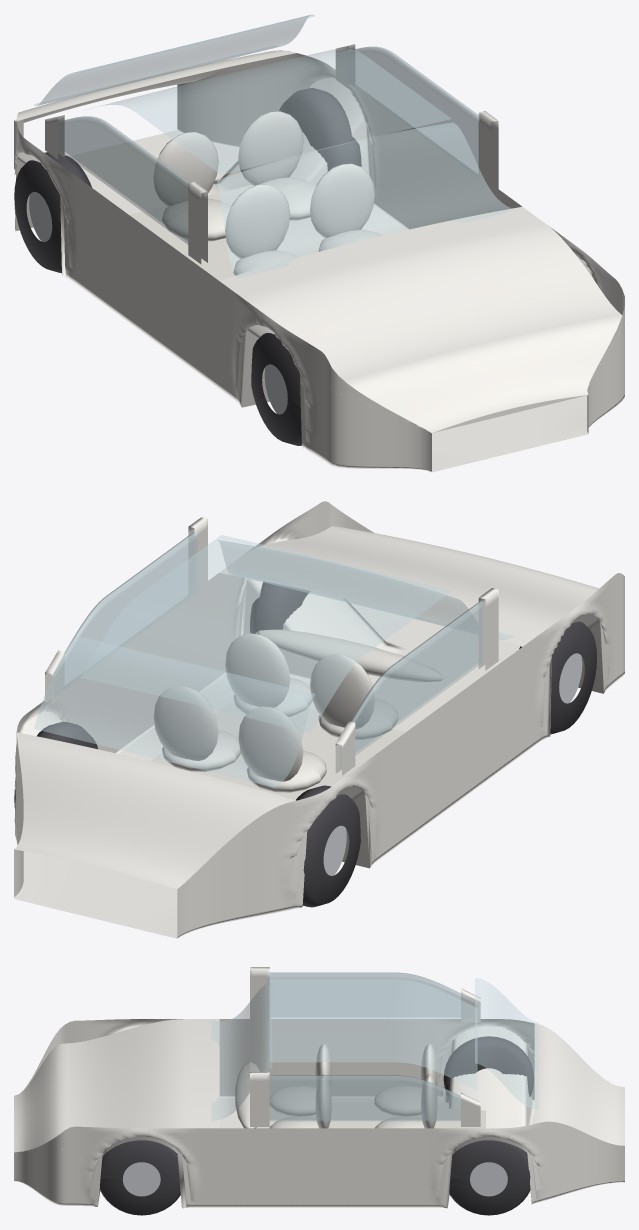
The model's file is ev-lot.glb.
3 views of the same model, one above another, from view 1: azimuth 30°, elevation 25°; view 2: azimuth 150°, elevation 25°; view 3: azimuth 270°, elevation 25° (orthographic). The views are drawn at different scales.
Visible parts, largest first — view 1: BodyPaint, BodyHood, Windshield, RoofGlass, SideWindowR, SideWindowL, RearWindow, InteriorSeatRRBack, InteriorSeatFLBack, InteriorSeatFRBack, WheelRRTire, InteriorFloor (+15 smaller); view 2: BodyPaint, RoofGlass, RearWindow, BodyDeck, BodyHood, Windshield, SideWindowR, SideWindowL, InteriorFloor, WheelRLTire, InteriorDash, InteriorSeatRLBack (+16 smaller); view 3: BodyPaint, BodyHood, RoofGlass, SideWindowL, SideWindowR, BodyDeck, RearWindow, Windshield, WheelRRTire, WheelFRTire, WheelRLTire, InteriorFloor (+15 smaller).
Part boxes in pixels (x1,y1,x2,y2): BodyPaint: [14, 50, 624, 472]; BodyHood: [219, 206, 622, 432]; Windshield: [217, 122, 515, 277]; RoofGlass: [99, 49, 451, 174]; SideWindowR: [337, 46, 479, 179]; SideWindowL: [58, 116, 189, 244]; RearWindow: [34, 14, 314, 105]; InteriorSeatRRBack: [238, 111, 303, 185]; InteriorSeatFLBack: [225, 184, 290, 258]; InteriorSeatFRBack: [310, 163, 374, 237]; WheelRRTire: [279, 88, 361, 171]; InteriorFloor: [129, 185, 364, 280]; BodyPaint: [14, 501, 624, 938]; RoofGlass: [81, 535, 451, 733]; RearWindow: [33, 636, 315, 787]; BodyDeck: [14, 732, 295, 888]; BodyHood: [219, 526, 599, 646]; Windshield: [217, 540, 514, 639]; SideWindowR: [51, 532, 197, 696]; SideWindowL: [338, 601, 482, 766]; InteriorFloor: [150, 700, 405, 800]; WheelRLTire: [296, 785, 360, 907]; InteriorDash: [256, 629, 443, 681]; InteriorSeatRLBack: [238, 706, 303, 781]; BodyPaint: [14, 1019, 624, 1208]; BodyHood: [14, 1019, 219, 1152]; RoofGlass: [270, 979, 477, 1090]; SideWindowL: [267, 972, 477, 1018]; SideWindowR: [269, 1075, 460, 1120]; BodyDeck: [534, 1023, 624, 1145]; RearWindow: [475, 978, 538, 1109]; Windshield: [211, 982, 271, 1120]; WheelRRTire: [449, 1140, 530, 1215]; WheelFRTire: [99, 1140, 180, 1215]; WheelRLTire: [443, 1036, 533, 1097]; InteriorFloor: [257, 1103, 485, 1128].
Bounding box in the file's own units: 1.9 × 1.17 × 4.4.
